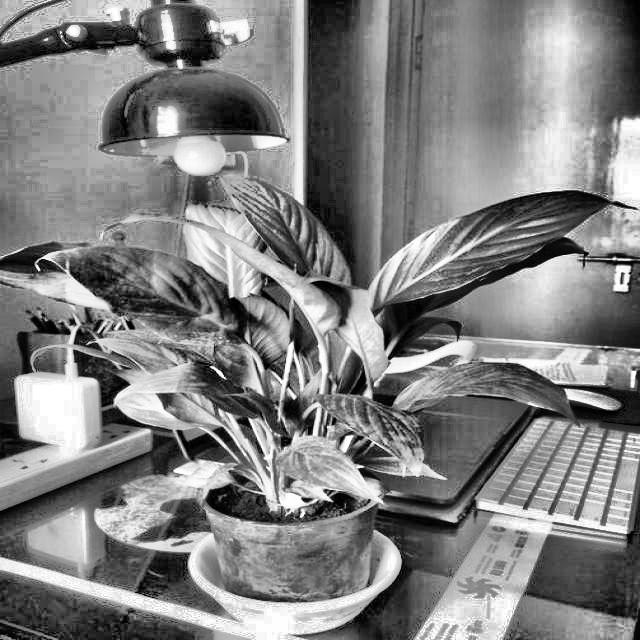plants: (22, 180, 608, 609), (262, 481, 329, 515)
